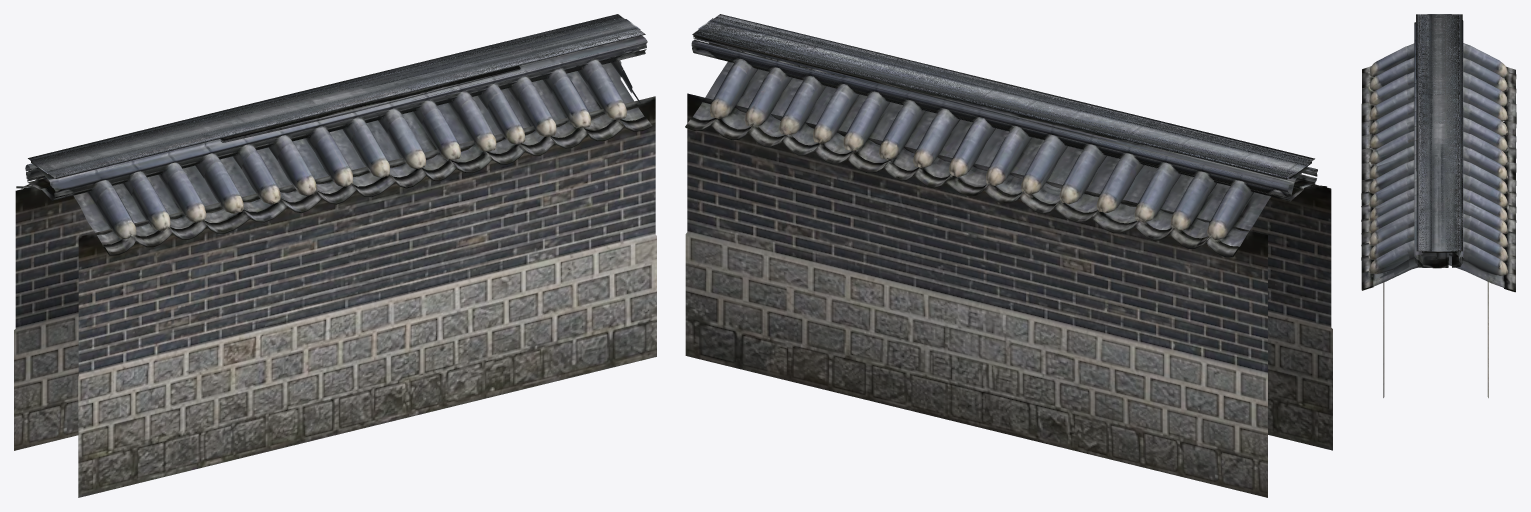
The model's file is wall-mid-2031df3fca.glb.
The picture shows the model from 3 angles, left to right: view 1: azimuth 30°, elevation 25°; view 2: azimuth 150°, elevation 25°; view 3: azimuth 270°, elevation 25°; orthographic projection. The views are drawn at different scales.
Visible parts, largest first — view 1: tripo_node_dbd1d23f-ee8e-4d9a-984a-b992ebbb23b6; view 2: tripo_node_dbd1d23f-ee8e-4d9a-984a-b992ebbb23b6; view 3: tripo_node_dbd1d23f-ee8e-4d9a-984a-b992ebbb23b6.
Part boxes in pixels (left/top/right/bottom): tripo_node_dbd1d23f-ee8e-4d9a-984a-b992ebbb23b6: left=14, top=14, right=656, bottom=497; tripo_node_dbd1d23f-ee8e-4d9a-984a-b992ebbb23b6: left=685, top=14, right=1332, bottom=497; tripo_node_dbd1d23f-ee8e-4d9a-984a-b992ebbb23b6: left=1361, top=14, right=1516, bottom=398.
Size of the model in its own units: 0.9717 by 0.477 by 0.2681.
1 material, 1 textured.
